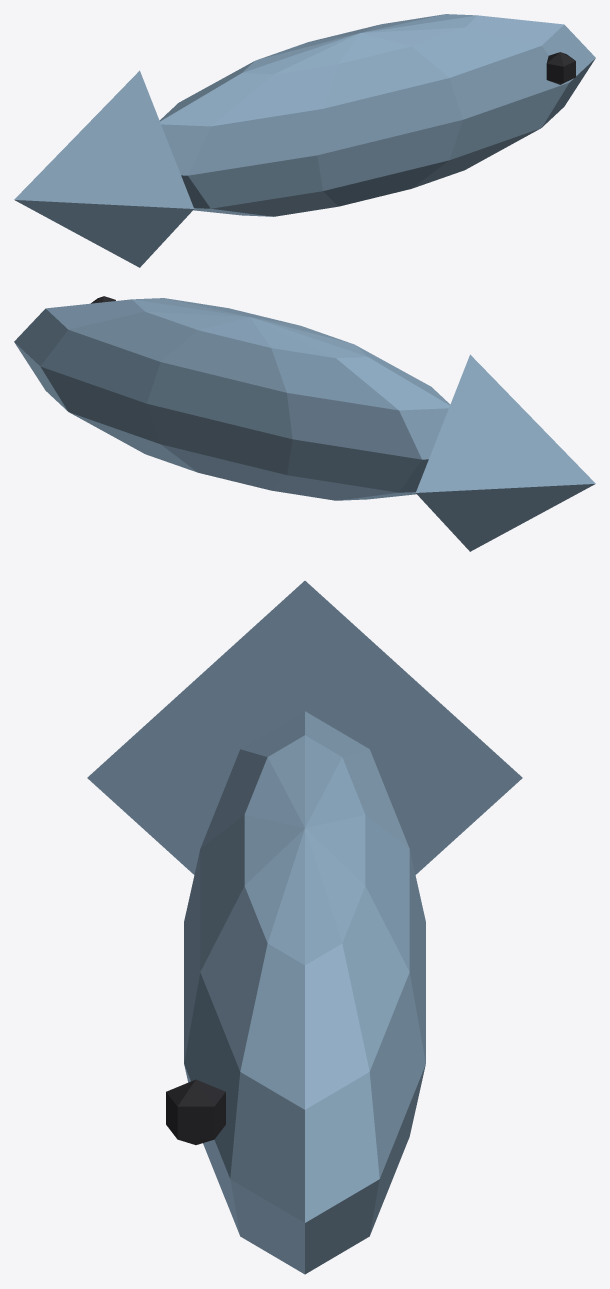
File: food_fish.glb
The picture shows the model from 3 angles, top to bottom: view 1: azimuth 30°, elevation 25°; view 2: azimuth 150°, elevation 25°; view 3: azimuth 270°, elevation 25°; orthographic projection. The views are drawn at different scales.
Visible parts, largest first — view 1: fish_food_fish, eye_kitchen_black; view 2: fish_food_fish; view 3: fish_food_fish, eye_kitchen_black.
Boxes of the visible parts, <box> form: fish_food_fish: <box>14,14,595,267</box>; eye_kitchen_black: <box>546,52,575,84</box>; fish_food_fish: <box>14,298,595,551</box>; fish_food_fish: <box>87,581,522,1274</box>; eye_kitchen_black: <box>166,1079,225,1144</box>.
Bounding box in the file's own units: 0.37 × 0.12 × 0.12.
